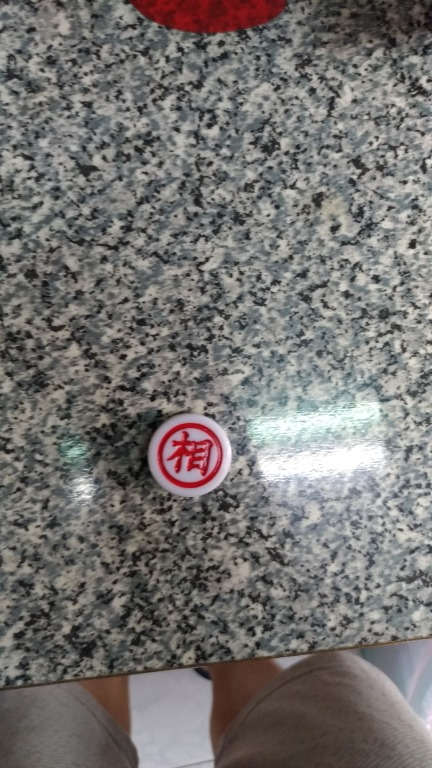r-elephant: (134, 406, 263, 508)
